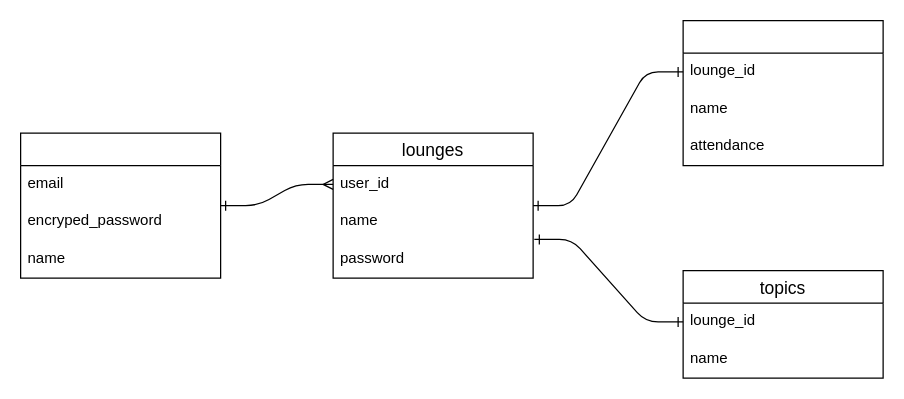
This 904x399 diagram has some shape labels left out. Each missing label, with the box of its shape:
members: (682, 19, 883, 166)
users: (19, 132, 221, 278)
